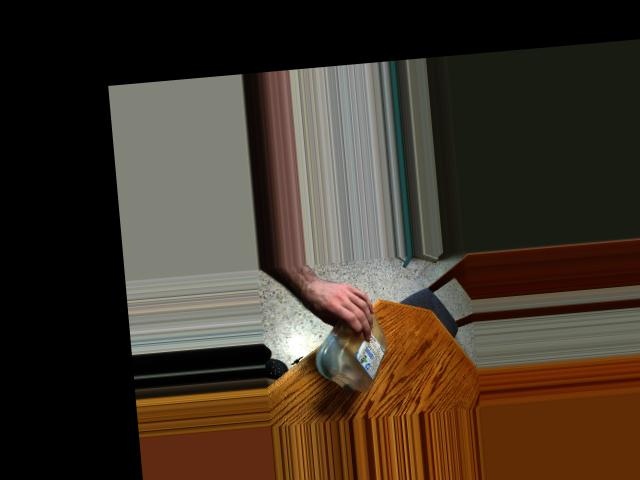cheese: (312, 298, 395, 398)
